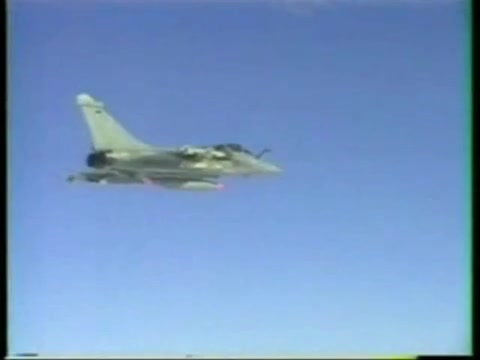aeroplane: (64, 92, 288, 193)
